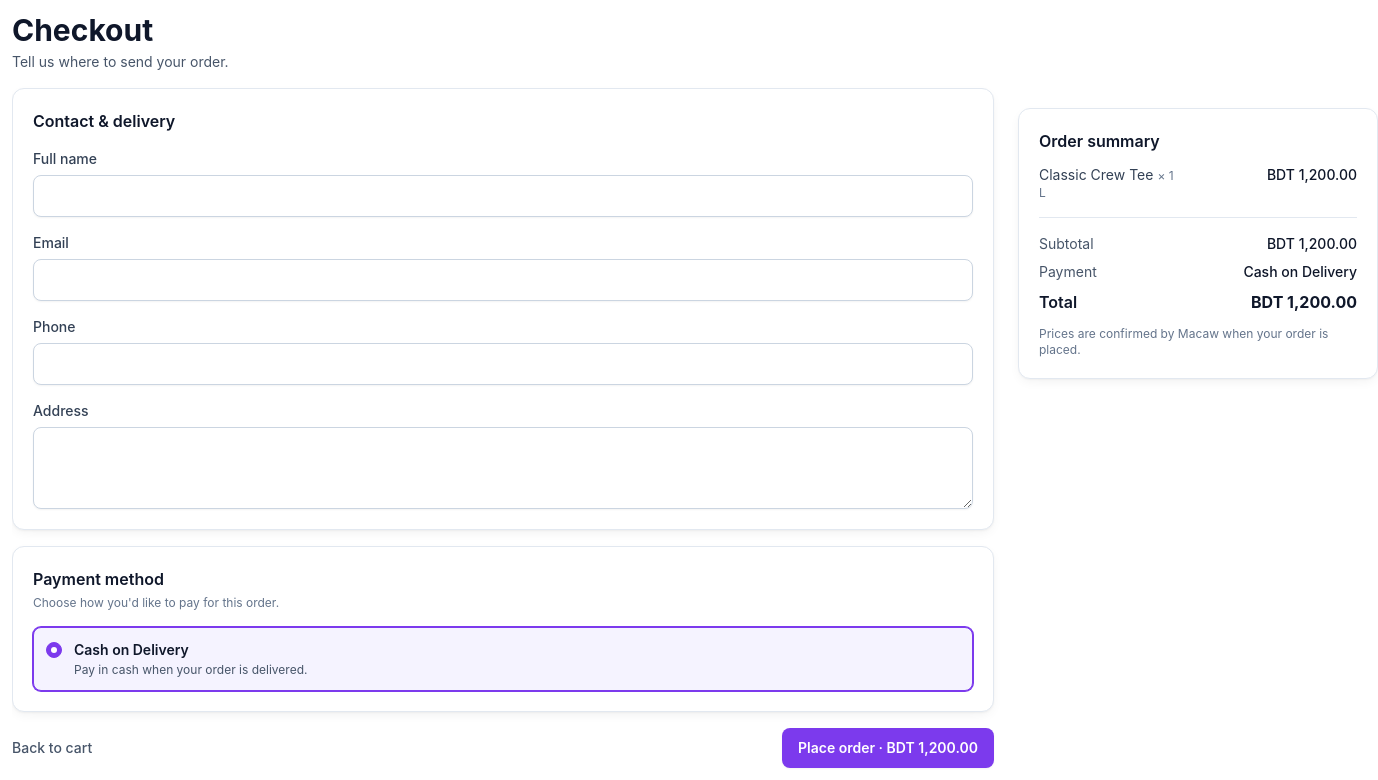
Test case: CheckoutPage — validation and submission › renders a warning when the email fails but acknowledges the order
Type "Jane Doe" into the field labelled "Full name" at coordinates (503, 196), box [33,175,973,217]
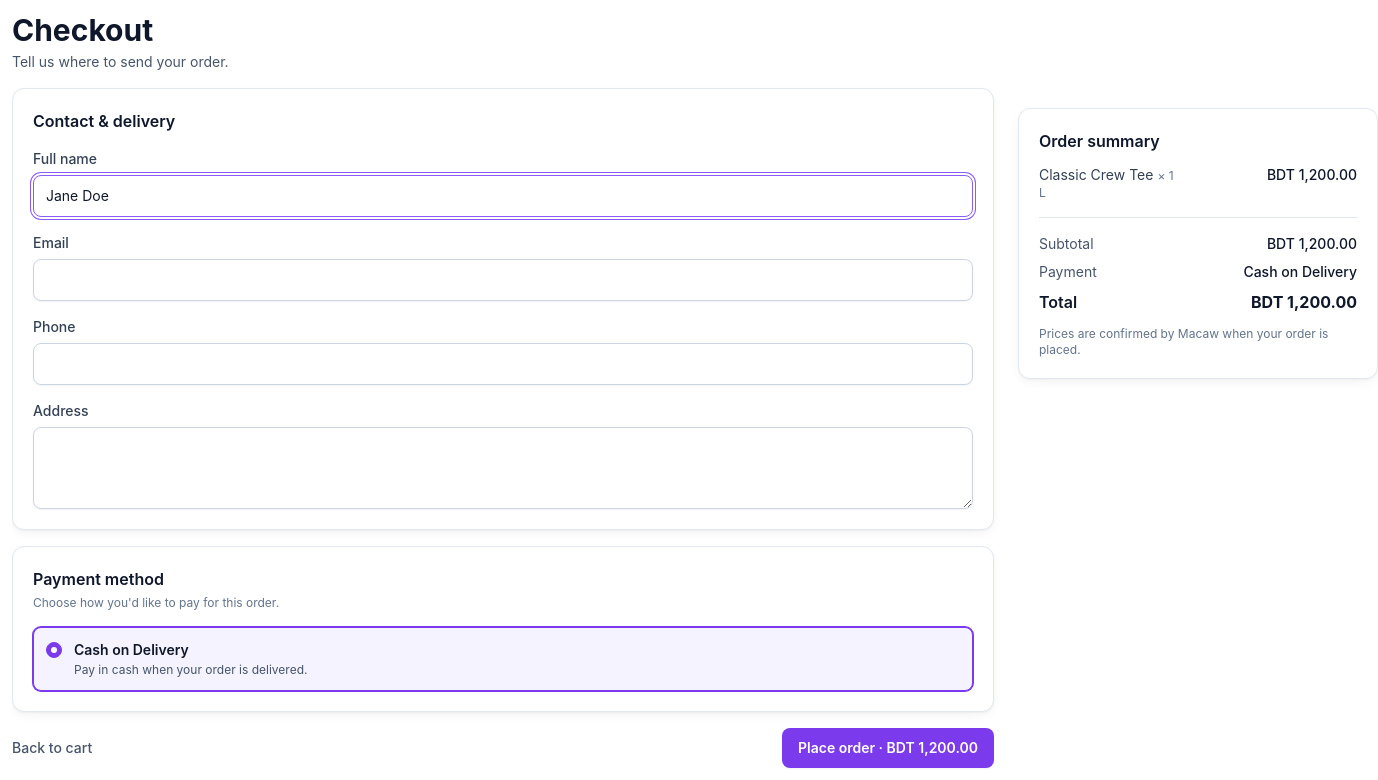
Type "jane@example.com" into the field labelled "Email" at coordinates (503, 280), box [33,259,973,301]
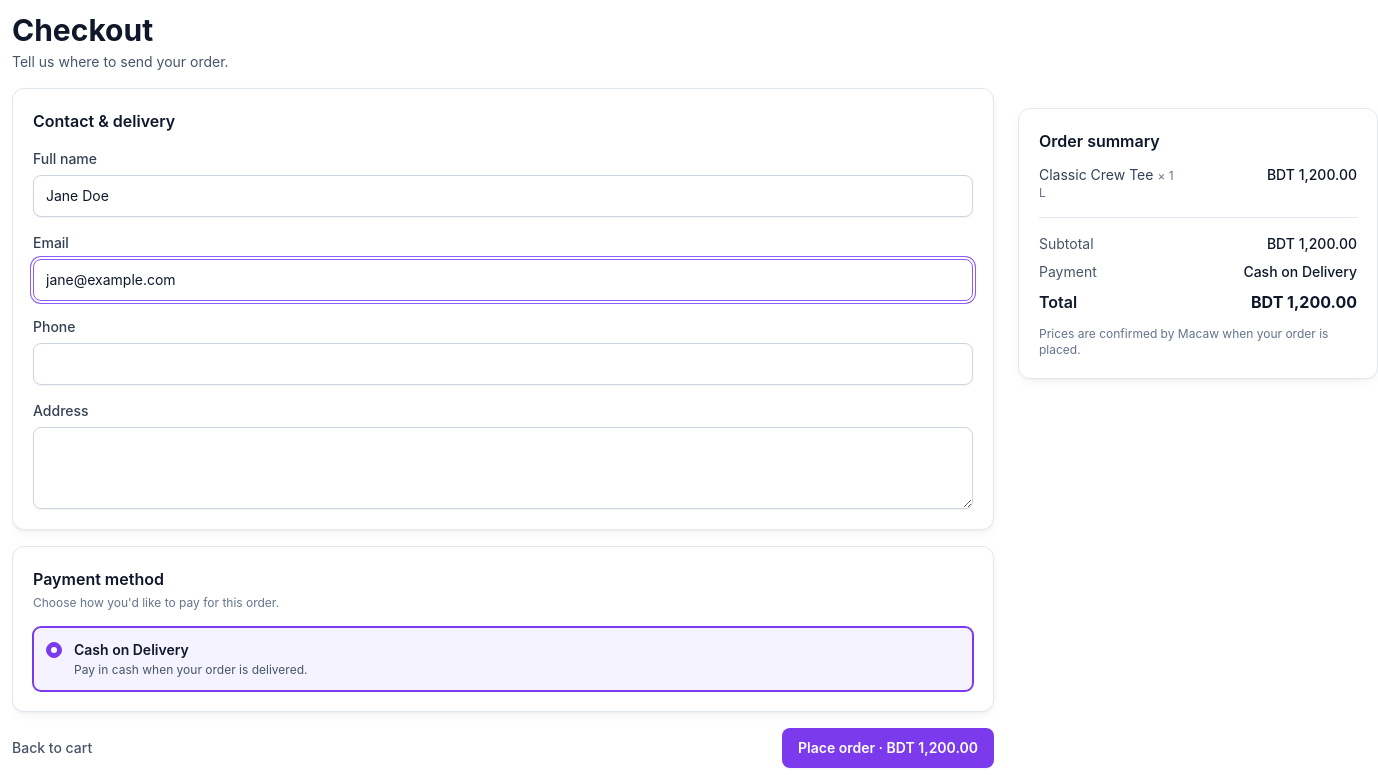
Type "+1 555 0000" into the field labelled "Phone" at coordinates (503, 364), box [33,343,973,385]
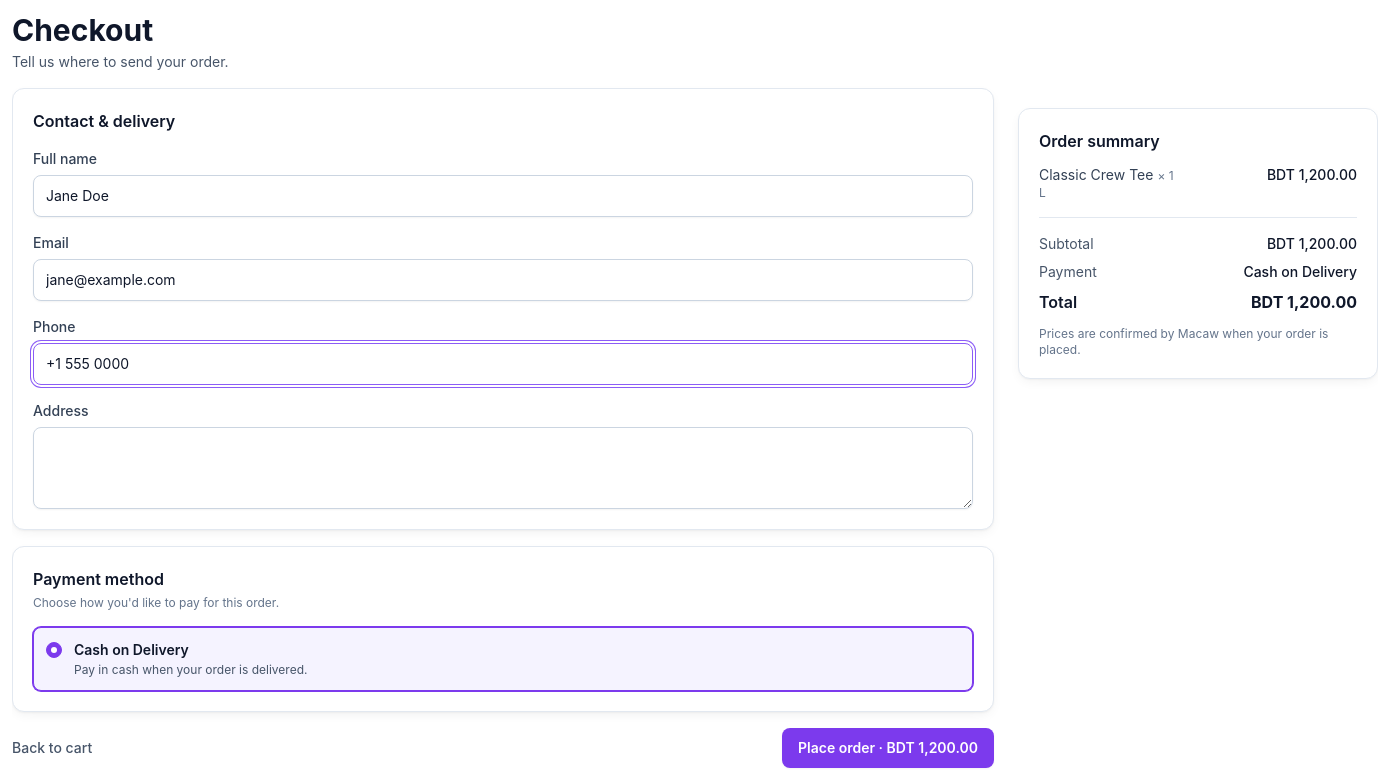
Type "1 Test Way" into the text box labelled "Address" at coordinates (503, 468), box [33,427,973,509]
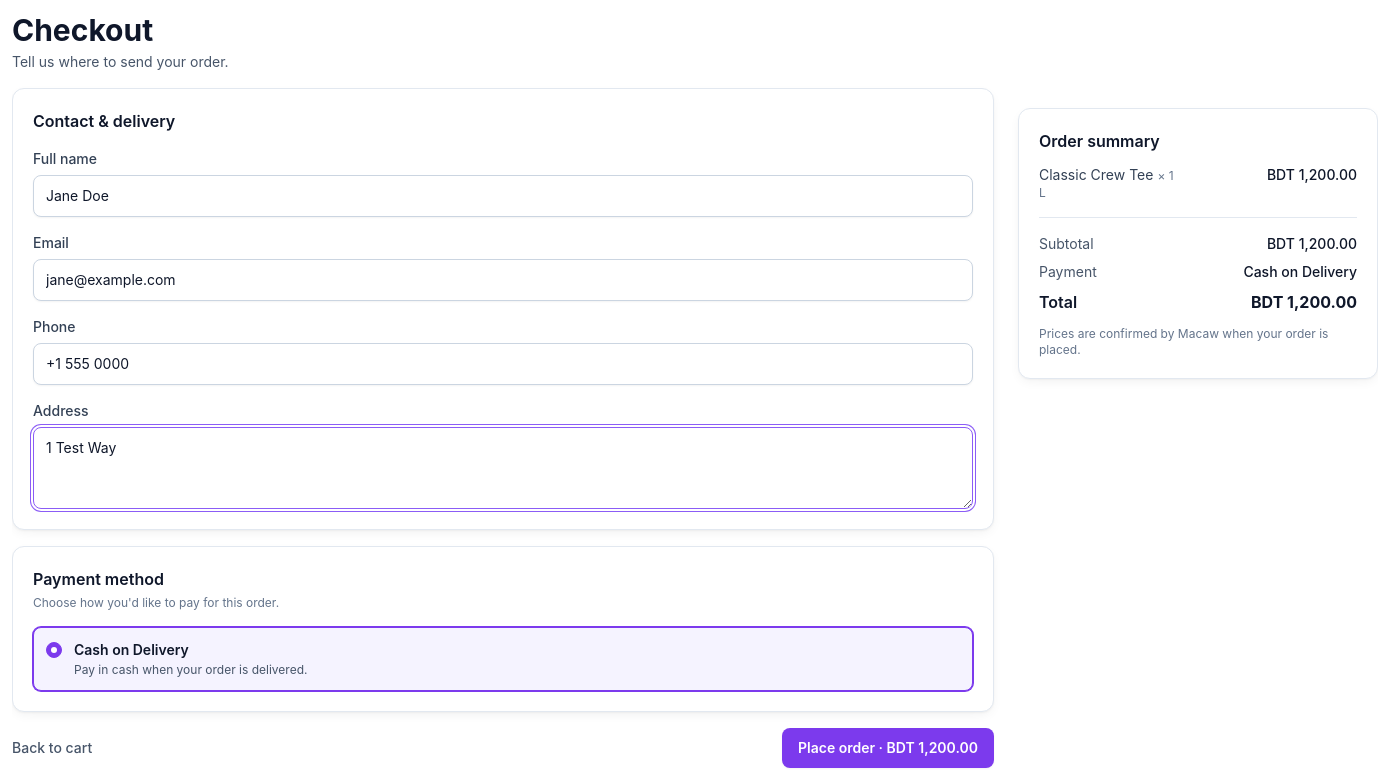
Click the button "Place order · BDT 1,200.00" at coordinates (888, 748), box [782,728,994,768]
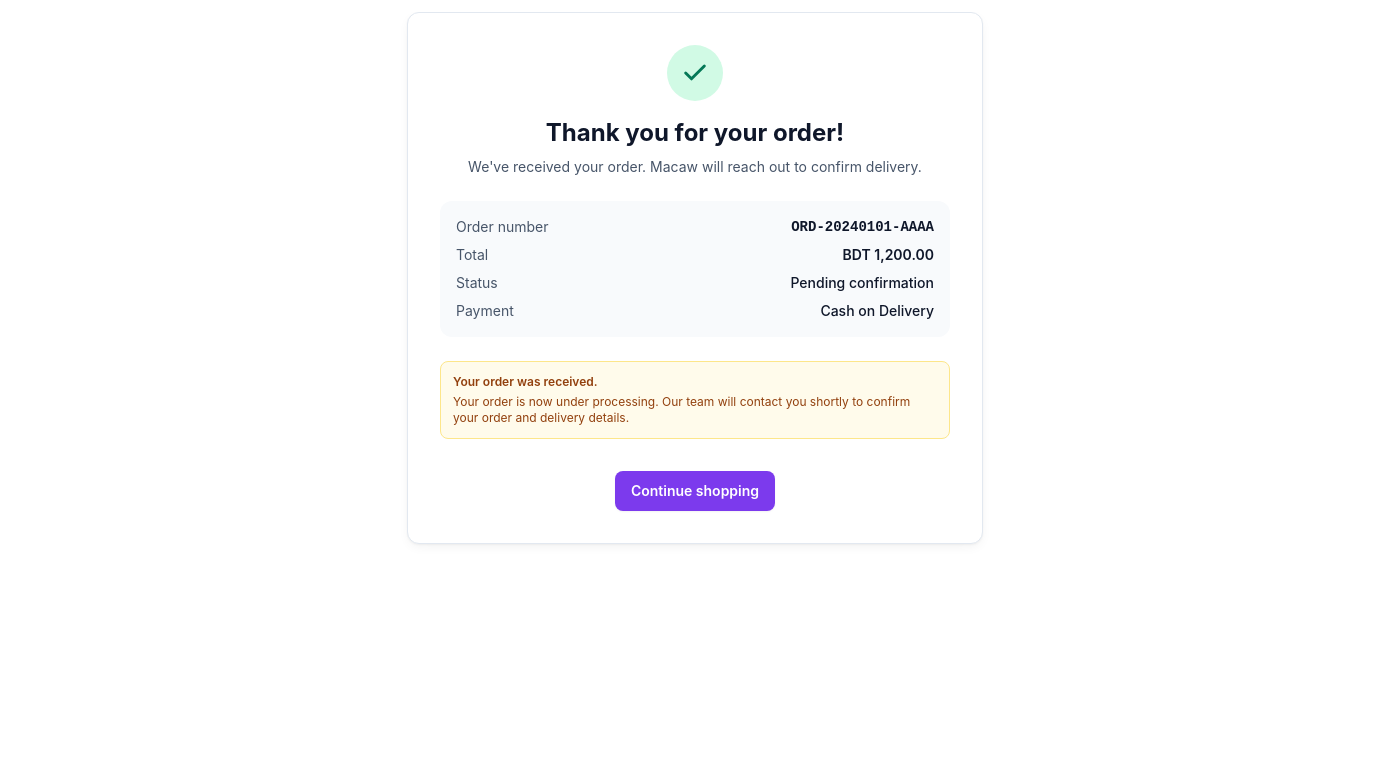
Expected: the text "Your order was received." is shown, [453,374,598,389]
Expected: the text "ORD-20240101-AAAA" is shown, [791,217,934,237]
